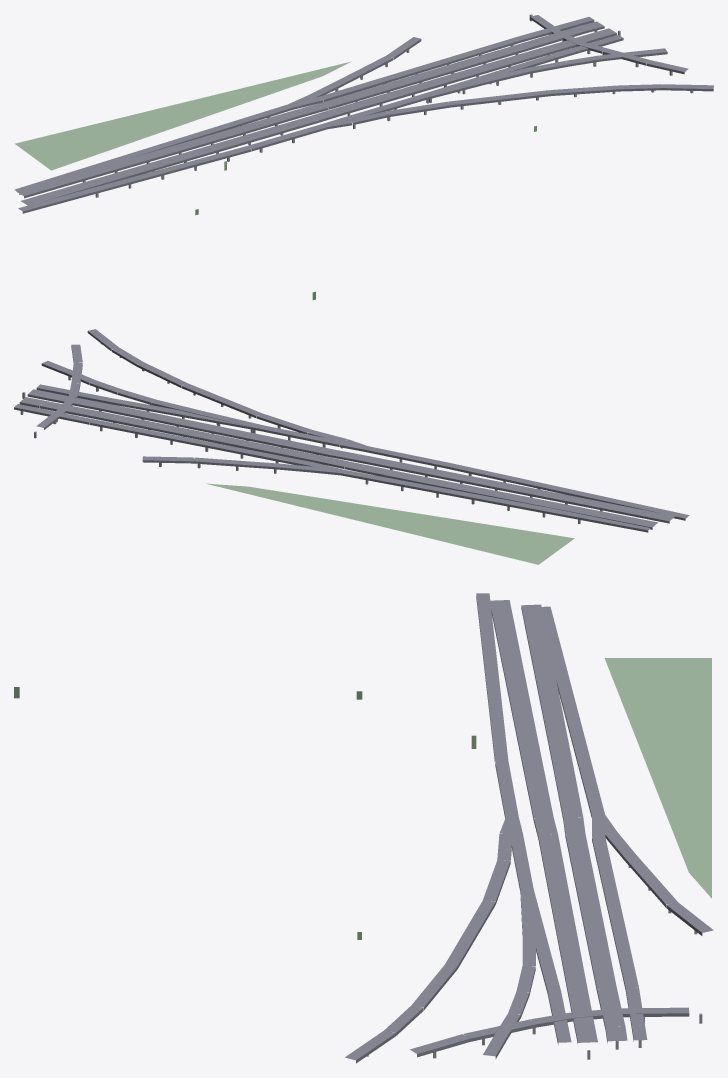
3 renders of one model, top to bottom at view 1: azimuth 30°, elevation 25°; view 2: azimuth 150°, elevation 25°; view 3: azimuth 270°, elevation 25°, orthographic. The views are drawn at different scales.
Size of the model in its own units: 577 by 9.04 by 368.
